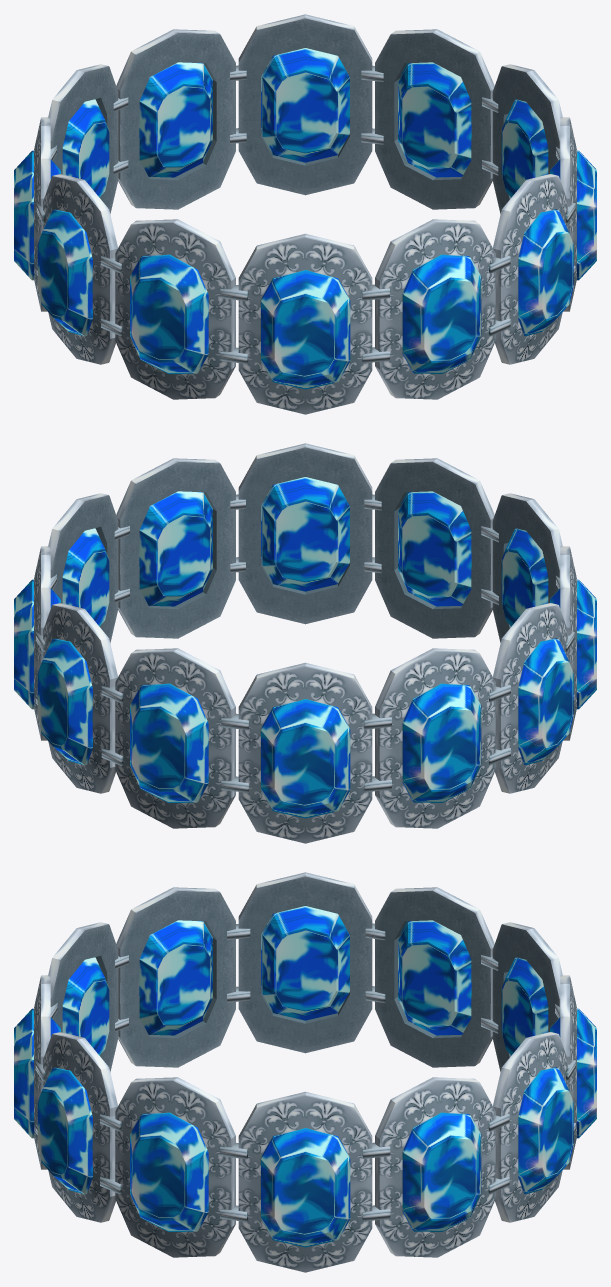
File: bracelet_01.fbx
The picture shows the model from 3 angles, top to bottom: view 1: azimuth 30°, elevation 25°; view 2: azimuth 150°, elevation 25°; view 3: azimuth 270°, elevation 25°; orthographic projection.
Visible parts, largest first — view 1: bracelet_01; view 2: bracelet_01; view 3: bracelet_01.
Boxes of the visible parts, bbox=[...] form: bracelet_01: bbox=[14, 14, 596, 414]; bracelet_01: bbox=[14, 443, 596, 843]; bracelet_01: bbox=[14, 872, 596, 1272].
Size of the model in its own units: 7.94 by 2.66 by 7.94.
